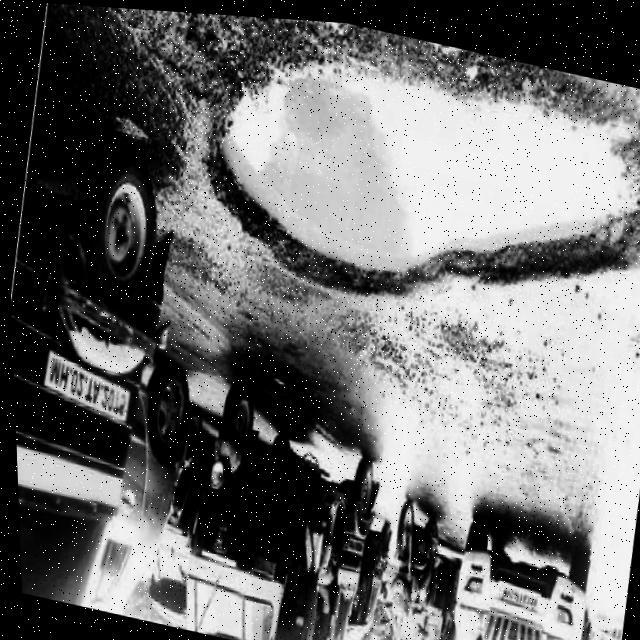pothole: (183, 9, 640, 360)
